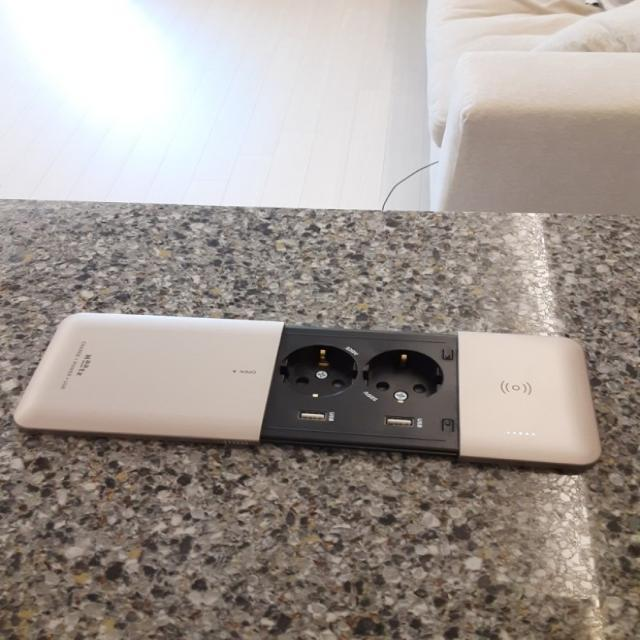typeb: (235, 286, 497, 518)
